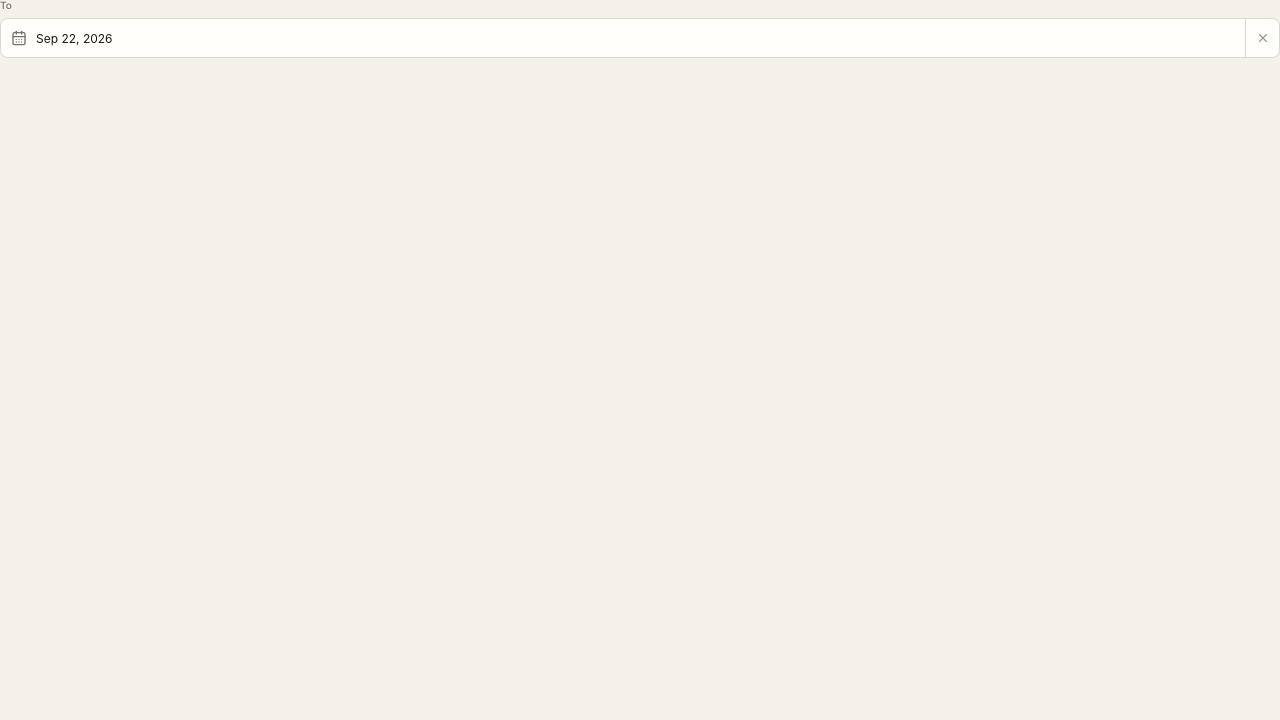
Scenario: DatePicker › disables dates outside the allowed range and restores focus on Escape
Click the button "Sep 22, 2026" at (74, 38), box [1, 19, 1245, 57]
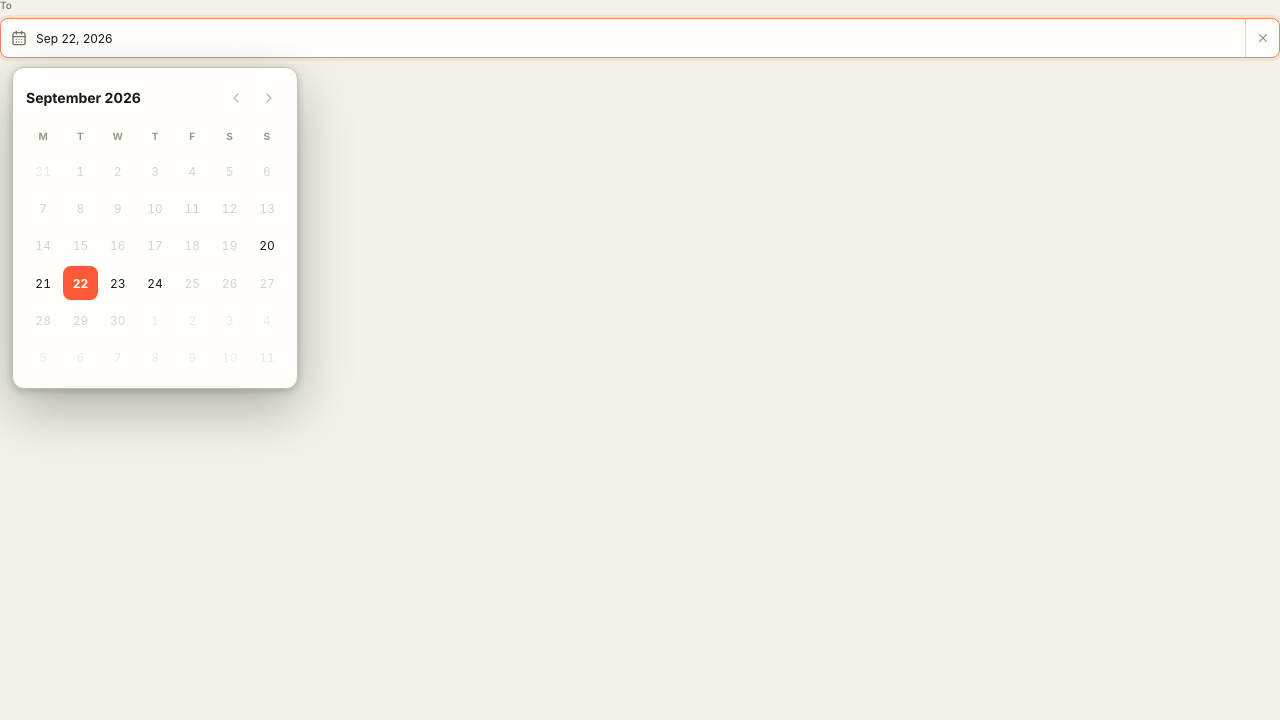
Expected: the button named "September 19, 2026" is disabled, [212, 229, 247, 263]
Expected: the button named "September 25, 2026" is disabled, [175, 266, 210, 300]
Press Escape
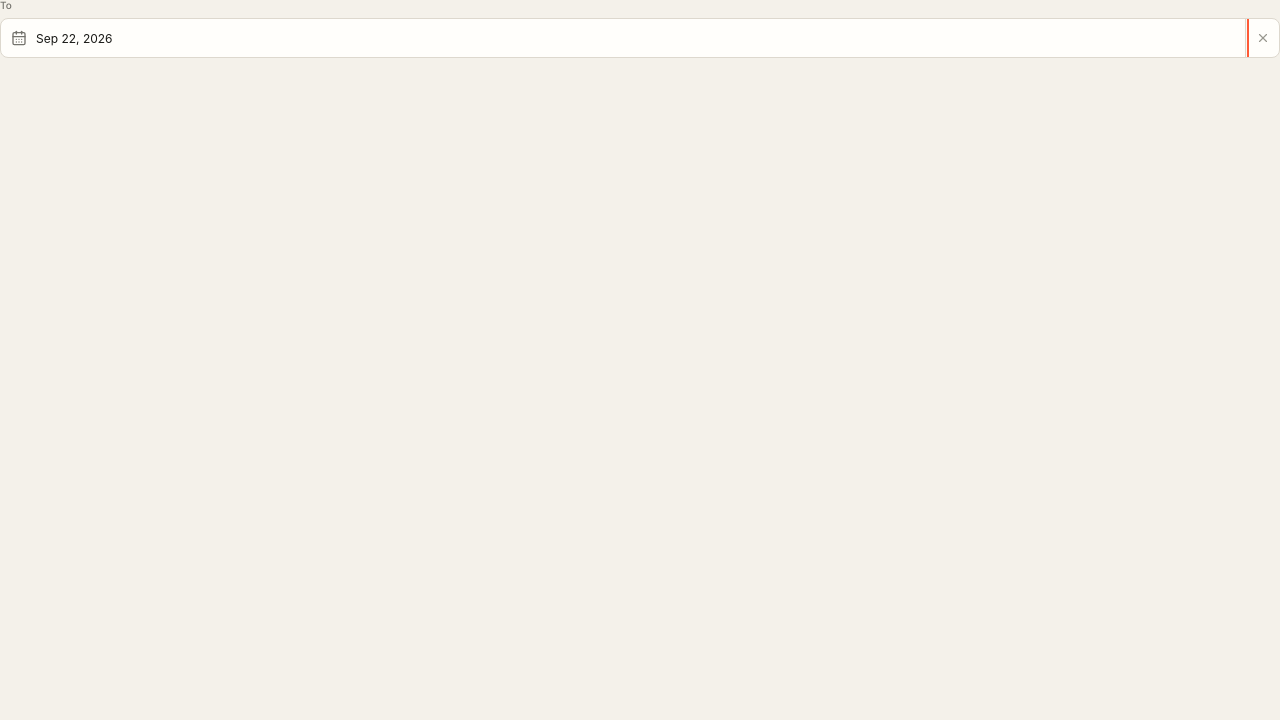
Expected: the dialog is gone
